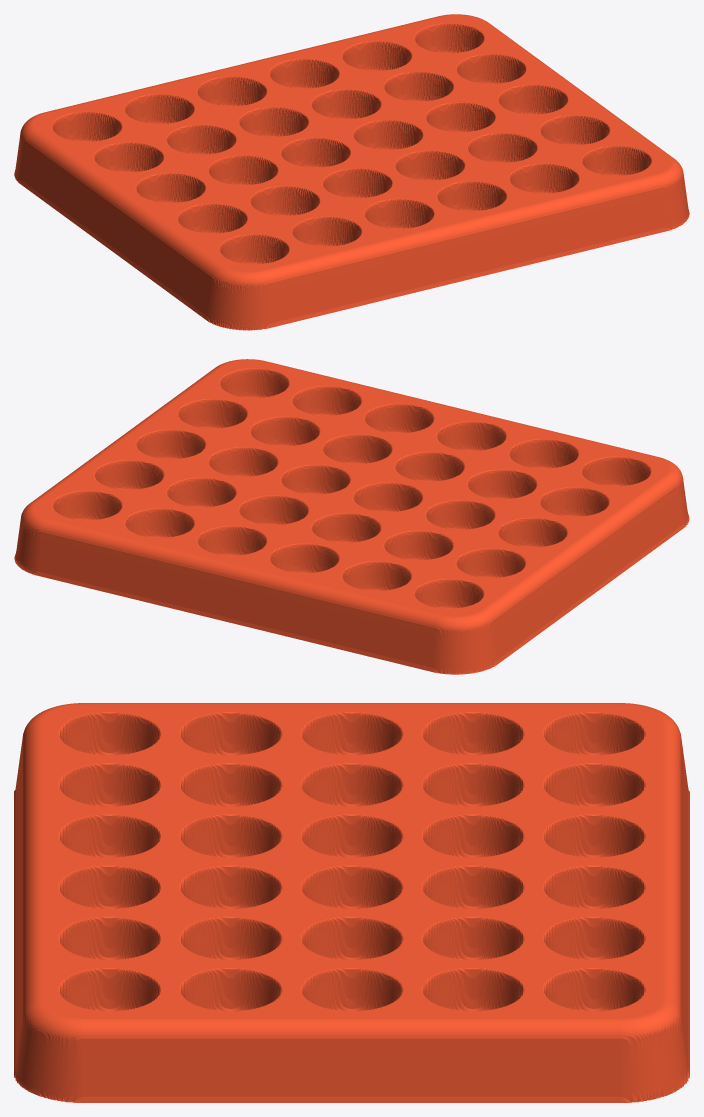
The model's file is mold.glb.
3 views of the same model, one above another, from view 1: azimuth 30°, elevation 25°; view 2: azimuth 150°, elevation 25°; view 3: azimuth 270°, elevation 25° (orthographic). The views are drawn at different scales.
Parts seen in each view (by area): view 1: geometry_0; view 2: geometry_0; view 3: geometry_0.
Part boxes in pixels (x1,y1,x2,y2): geometry_0: [14, 14, 689, 330]; geometry_0: [14, 359, 689, 674]; geometry_0: [14, 703, 689, 1102].
Bounding box in the file's own units: 0.104 × 0.0105 × 0.0882.
